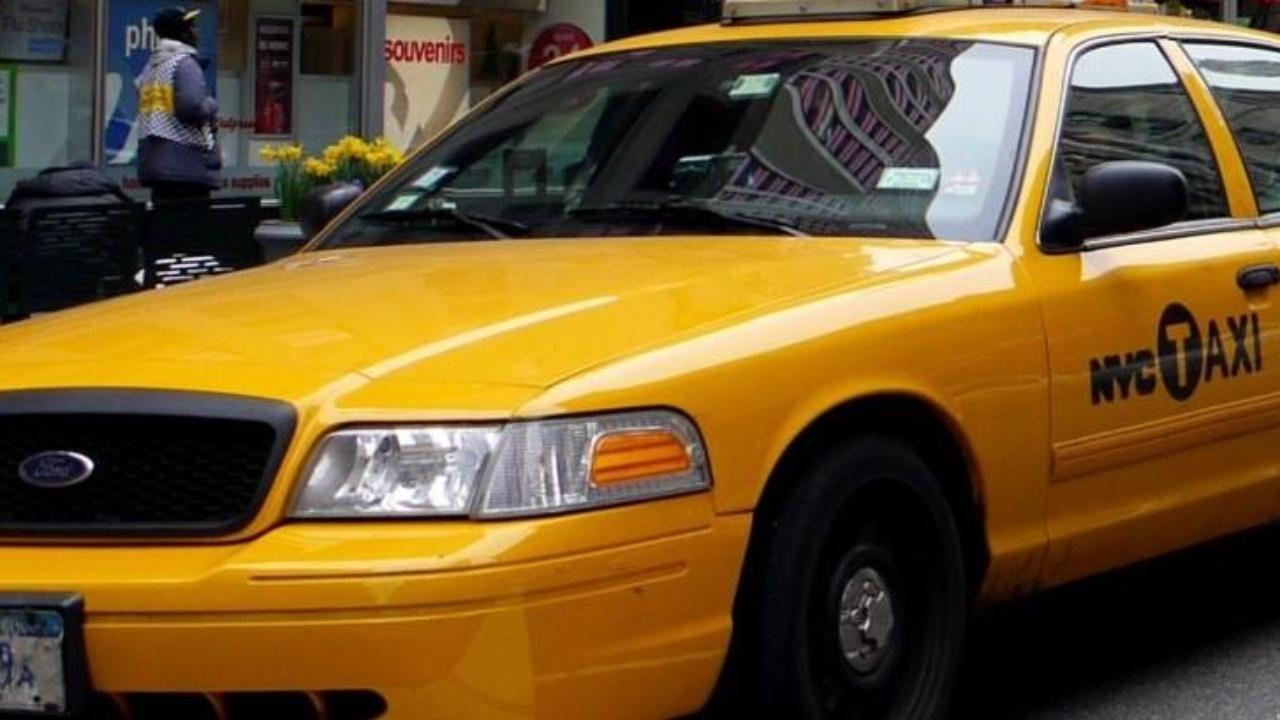taxi: (11, 10, 1280, 720)
